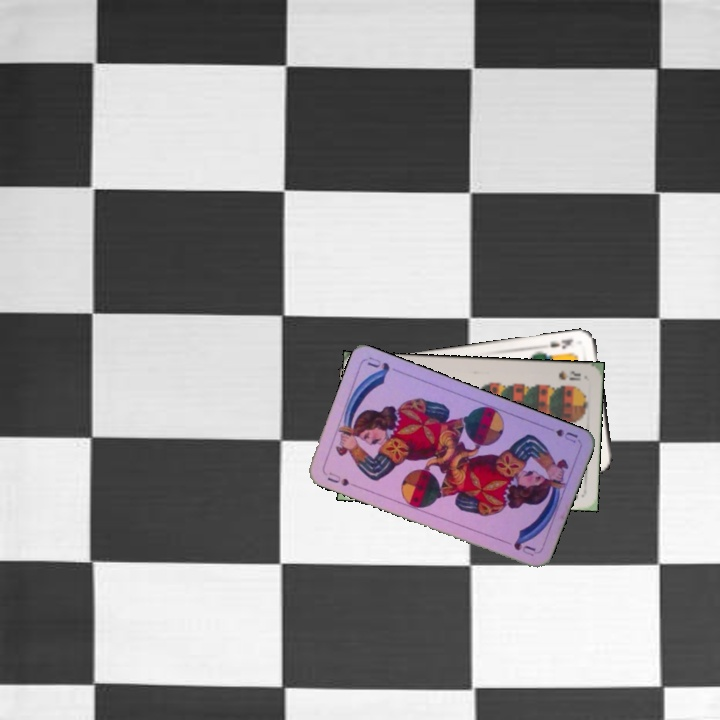EK: (546, 335, 576, 352)
S8: (555, 366, 583, 383)
SU: (551, 425, 580, 446), (323, 468, 352, 489)
